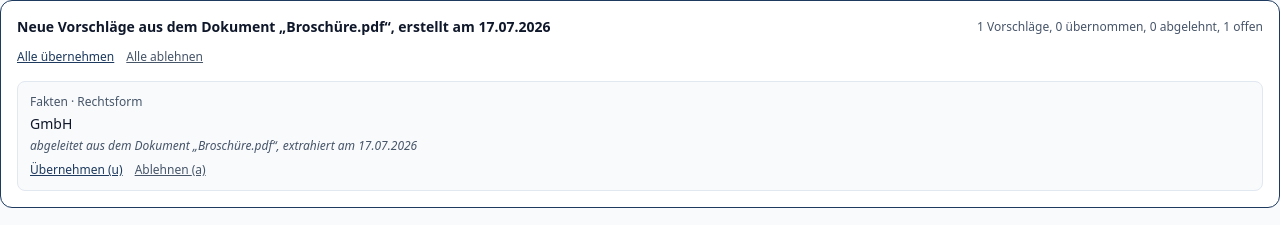
Test case: VorschlaegePanel › 'Ablehnen' entfernt die Karte, ohne sie zu persistieren (server-seitiger no-op)
Click the button with aria-label "Vorschlag ablehnen: Rechtsform": (170, 170) [135,162,206,178]
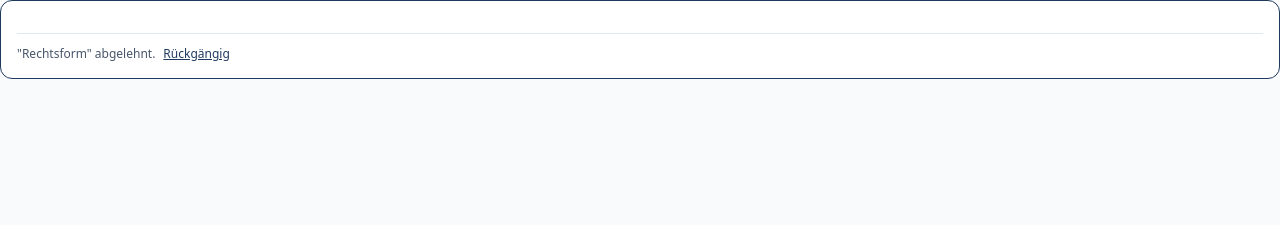
Now the text "GmbH" is gone
